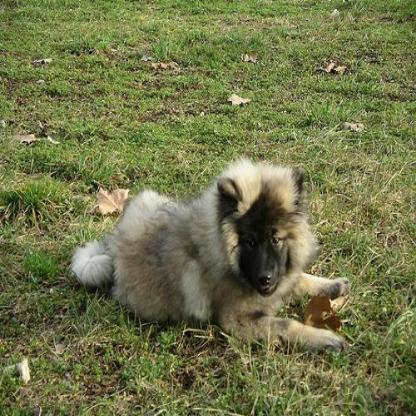keeshond: (69, 156, 349, 350)
